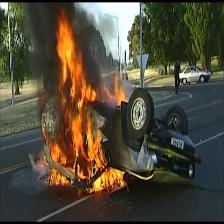fire: (48, 14, 136, 200)
smoke: (17, 3, 107, 98)
